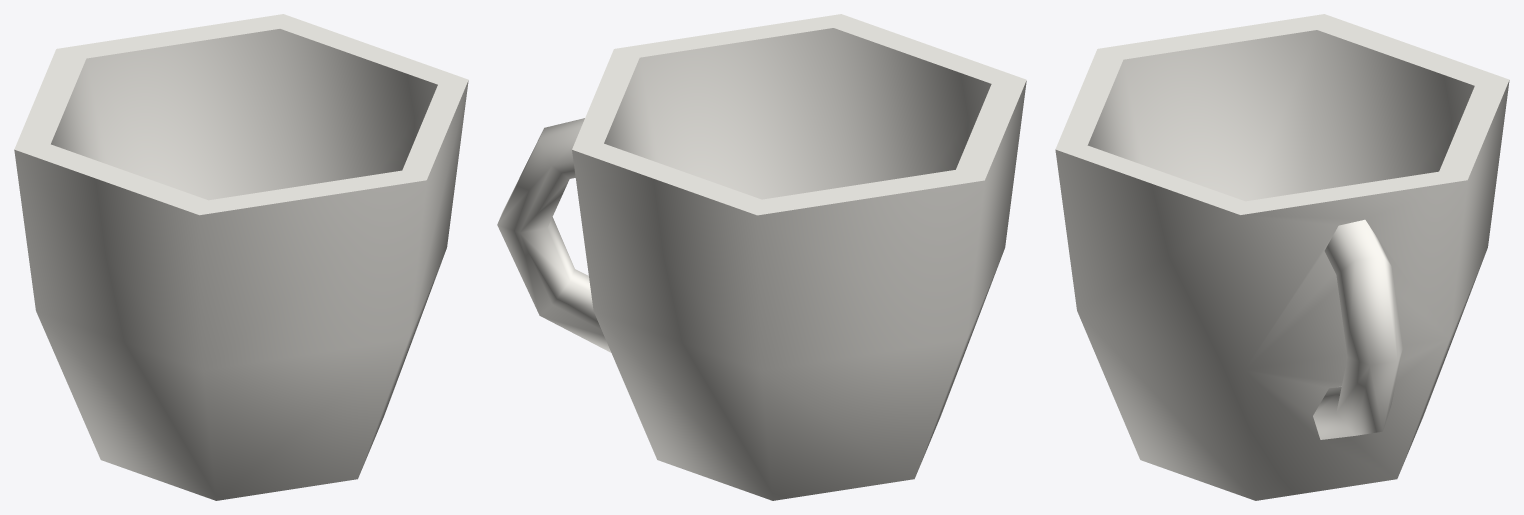
The model's file is SM_Coffee_Cup_01.fbx.
3 views of the same model, side by side, from view 1: azimuth 30°, elevation 25°; view 2: azimuth 150°, elevation 25°; view 3: azimuth 270°, elevation 25° (orthographic).
Visible parts, largest first — view 1: SM_Coffee_Cup_01; view 2: SM_Coffee_Cup_01; view 3: SM_Coffee_Cup_01.
Part boxes in pixels (x1,y1,x2,y2): SM_Coffee_Cup_01: (14, 14, 468, 500); SM_Coffee_Cup_01: (497, 14, 1026, 500); SM_Coffee_Cup_01: (1055, 14, 1509, 500).
Bounding box in the file's own units: 7.53 × 5.07 × 6.45.
